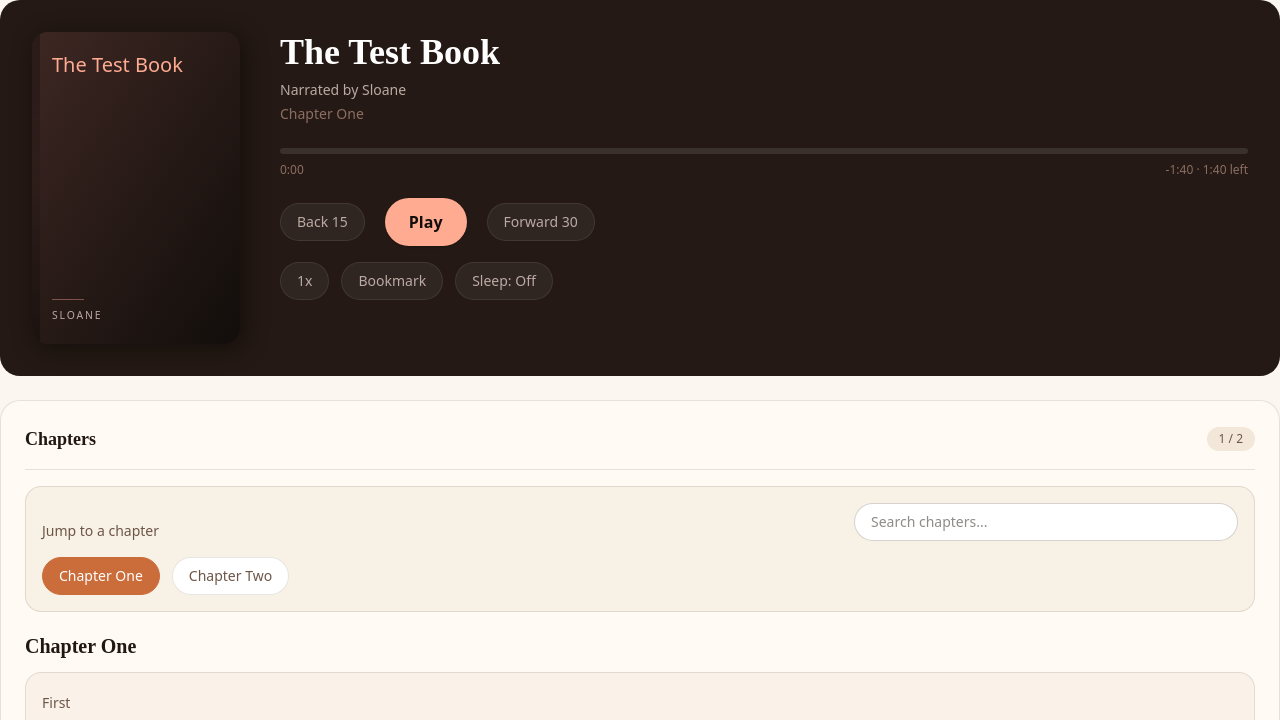
Scenario: useMediaController › seeks full-book playback to exact generated chapter boundaries
Click the button "Chapter Two".
click(230, 576)  # box [172,557,289,595]
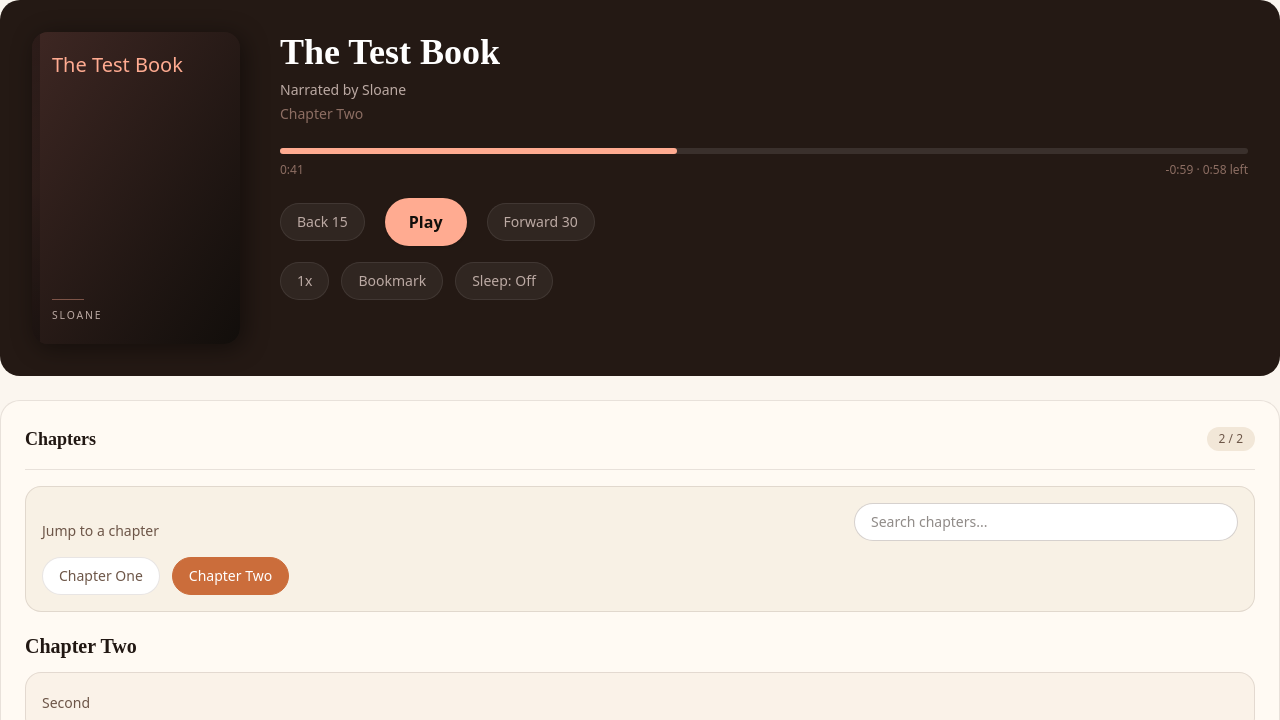
Check: the text "2 / 2" is shown, box [1206,427,1255,451]
